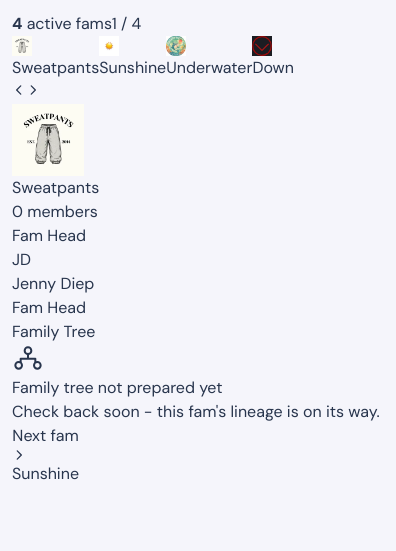
Test: FamTabs › hides the next button on the last fam
Click the tab "Down" at (273, 58), box [252, 36, 294, 80]
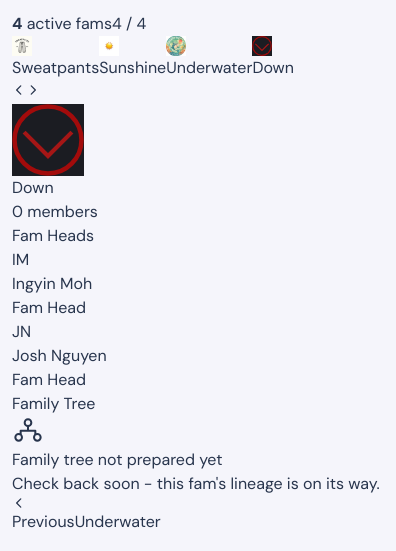
Result: the button "Next fam" is gone
Result: the 3rd button is shown at [12, 496, 161, 534]
